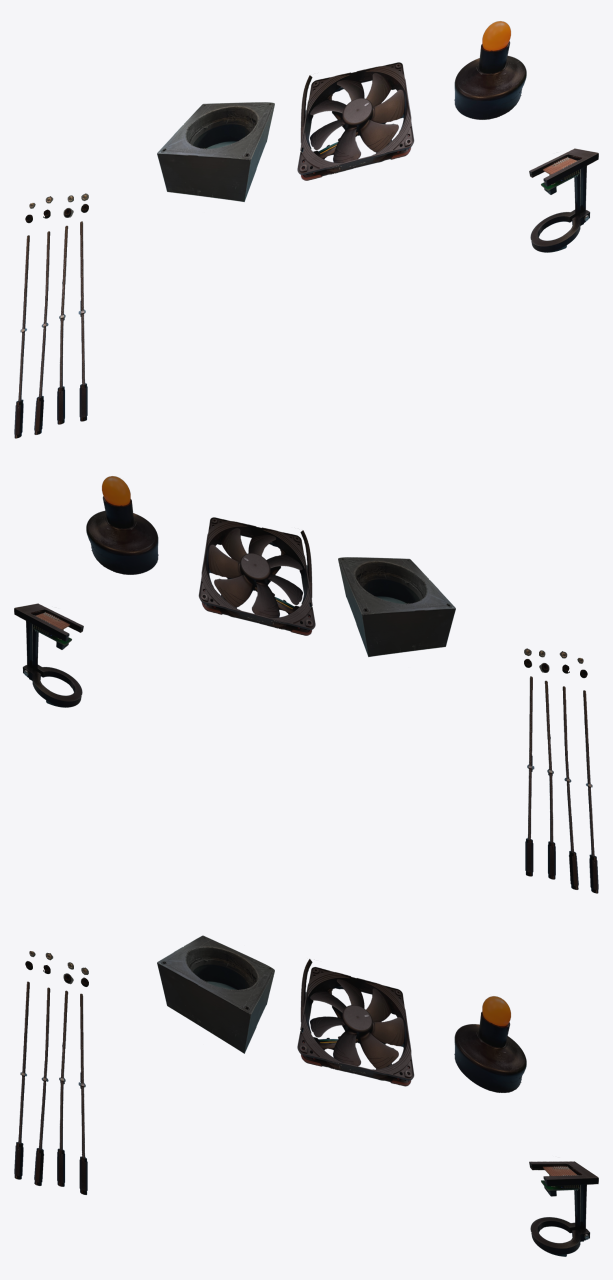
The model's file is assemblage TIB.glb.
3 views of the same model, one above another, from view 1: azimuth 30°, elevation 25°; view 2: azimuth 150°, elevation 25°; view 3: azimuth 330°, elevation 25° (orthographic).
Parts seen in each view (by area): view 1: mesh_id49, mesh_id31, mesh_id58, mesh_id40, mesh_id67; view 2: mesh_id49, mesh_id31, mesh_id58, mesh_id40, mesh_id67; view 3: mesh_id49, mesh_id31, mesh_id58, mesh_id40, mesh_id67.
Boxes of the visible parts, x1=… form: mesh_id49: x1=297, y1=62, x2=414, y2=180; mesh_id31: x1=157, y1=102, x2=274, y2=201; mesh_id58: x1=454, y1=21, x2=526, y2=119; mesh_id40: x1=14, y1=193, x2=88, y2=438; mesh_id67: x1=529, y1=148, x2=598, y2=252; mesh_id49: x1=198, y1=517, x2=315, y2=635; mesh_id31: x1=338, y1=557, x2=455, y2=656; mesh_id58: x1=86, y1=476, x2=158, y2=574; mesh_id40: x1=524, y1=648, x2=598, y2=893; mesh_id67: x1=14, y1=603, x2=83, y2=707; mesh_id49: x1=297, y1=959, x2=414, y2=1086; mesh_id31: x1=157, y1=935, x2=274, y2=1053; mesh_id58: x1=454, y1=996, x2=526, y2=1092; mesh_id40: x1=14, y1=951, x2=88, y2=1194; mesh_id67: x1=529, y1=1161, x2=598, y2=1256.
Bounding box in the file's own units: 3.9 × 1.92 × 0.
5 materials, 5 textured.
